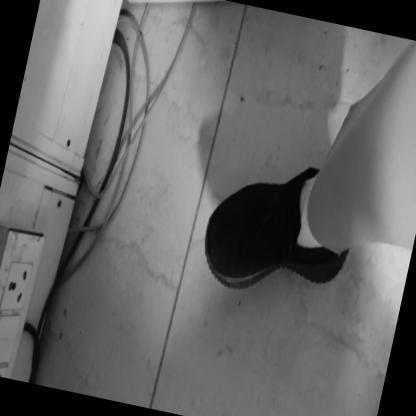ankle: (298, 227, 301, 231)
heel: (342, 254, 345, 258)
left_foot: (196, 148, 365, 310)
pinky: (239, 190, 243, 196)
toe: (215, 262, 218, 268)
